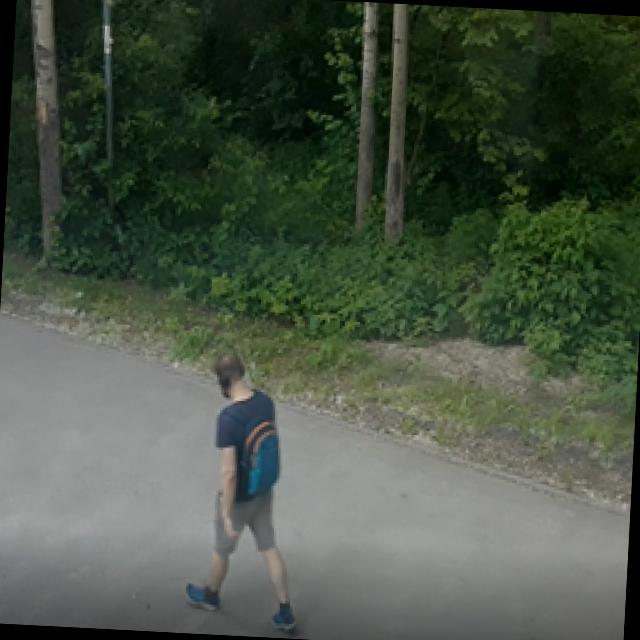person: (182, 354, 310, 632)
